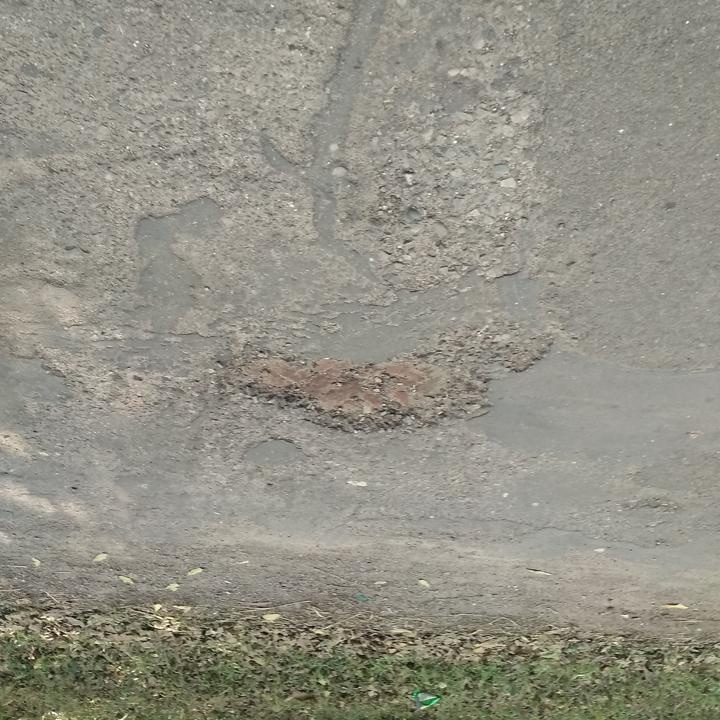pothole: (215, 320, 559, 442)
